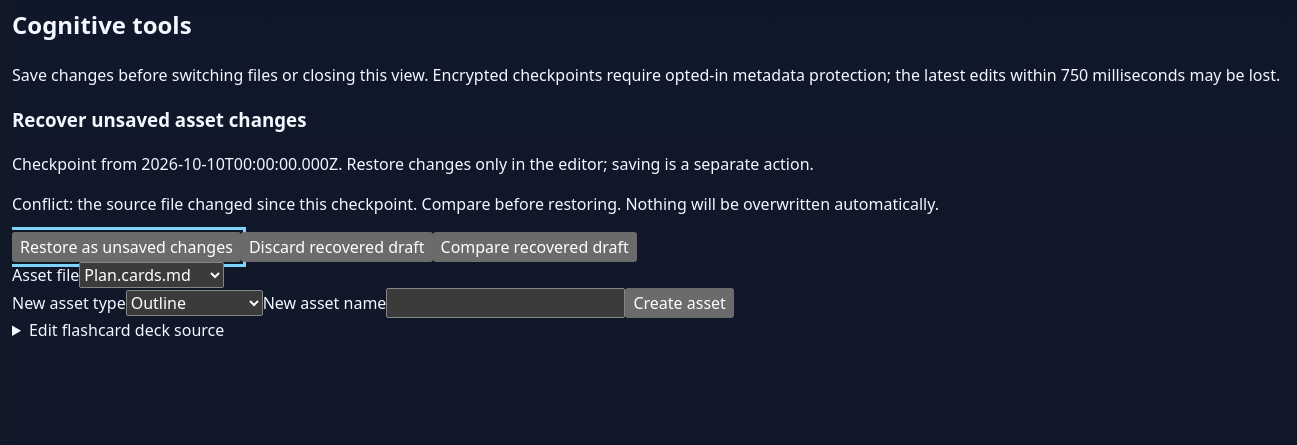
vault-backed cognitive workspace › offers accessible explicit compare and restores conflicts as unsaved edits without saving
The width and height of the screenshot is (1297, 445).
Expected: the heading "Recover unsaved asset changes" is shown, left=12, top=106, right=306, bottom=132
Click the button "Compare recovered draft" at (535, 247), box left=432, top=232, right=637, bottom=262
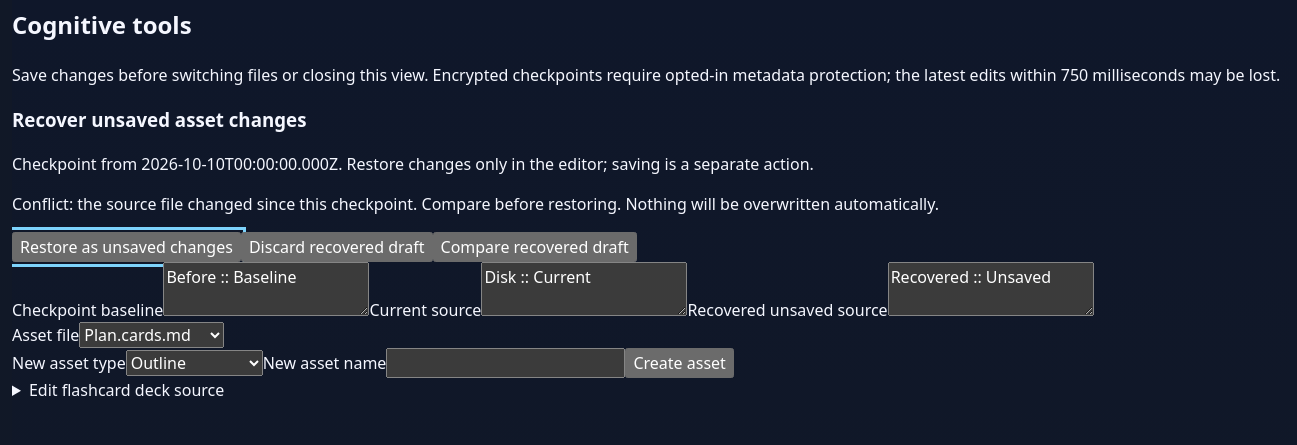
Press Enter in the button "Restore as unsaved changes", box left=12, top=232, right=241, bottom=262
Click the button "Restore as unsaved changes" at (126, 247), box left=12, top=232, right=241, bottom=262
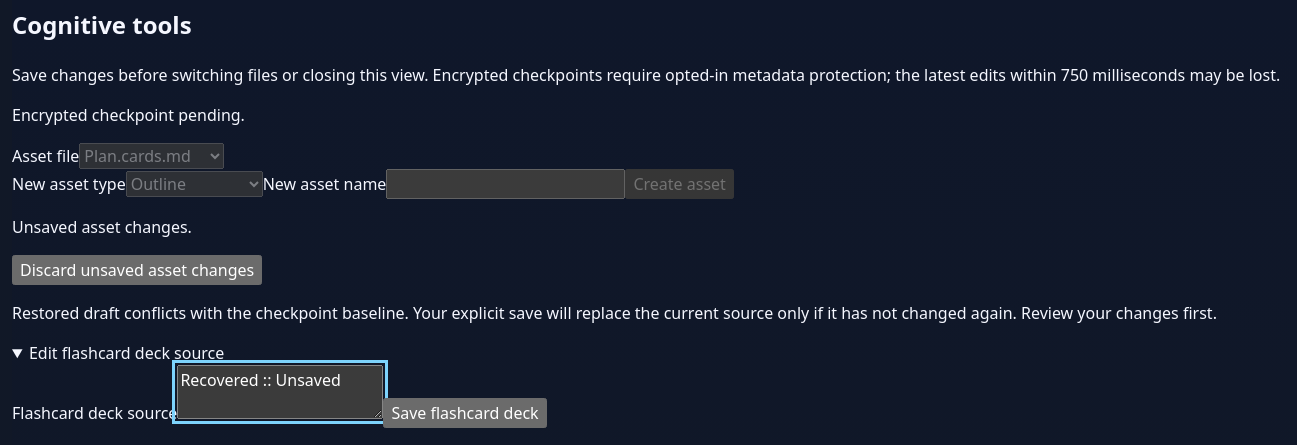
Expected: the text "Unsaved asset changes." is shown, left=12, top=216, right=192, bottom=238
